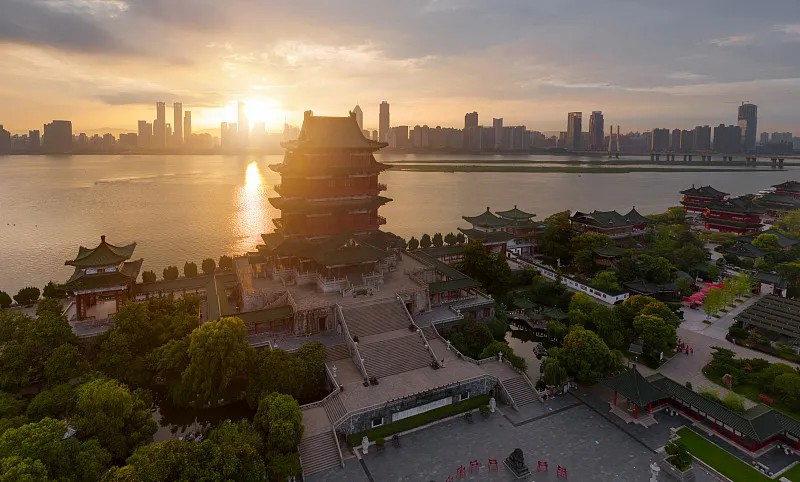Teng: (251, 109, 406, 274)
